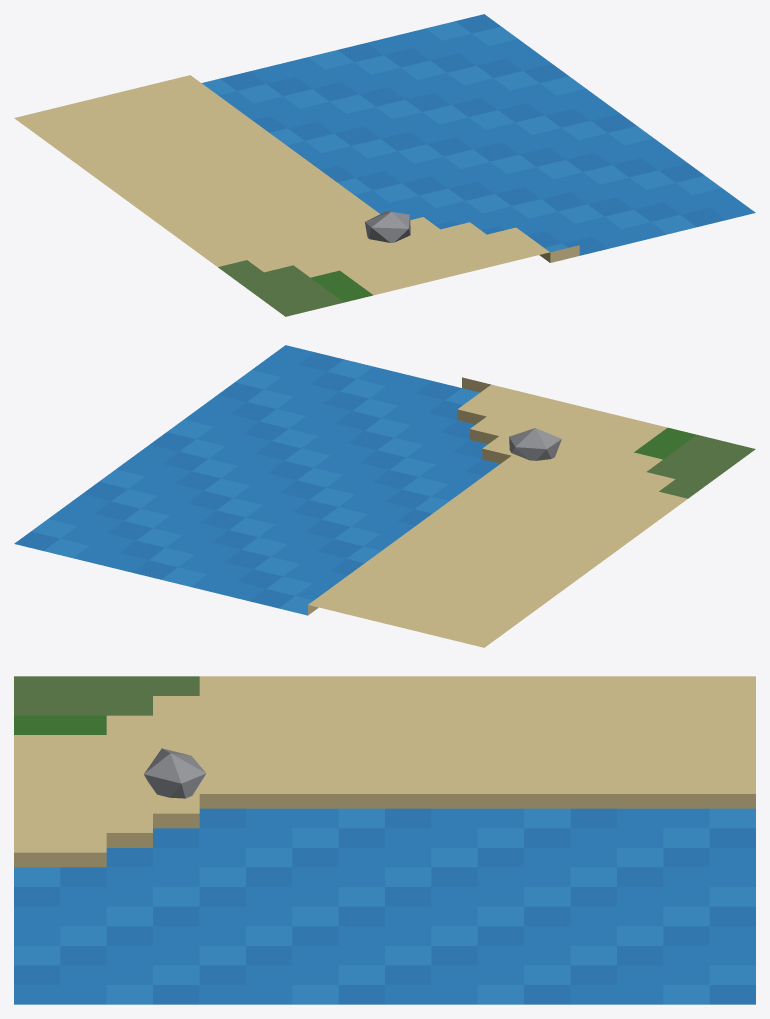
The model's file is chunk_11_14.glb.
3 views of the same model, one above another, from view 1: azimuth 30°, elevation 25°; view 2: azimuth 150°, elevation 25°; view 3: azimuth 270°, elevation 25° (orthographic). The views are drawn at different scales.
Visible parts, largest first — view 1: chunk_11_14; view 2: chunk_11_14; view 3: chunk_11_14.
Boxes of the visible parts, x1,y1,x2,y2 form: chunk_11_14: [14, 14, 755, 316]; chunk_11_14: [14, 345, 755, 647]; chunk_11_14: [14, 676, 755, 1004].
Size of the model in its own units: 16 by 1.17 by 16.
